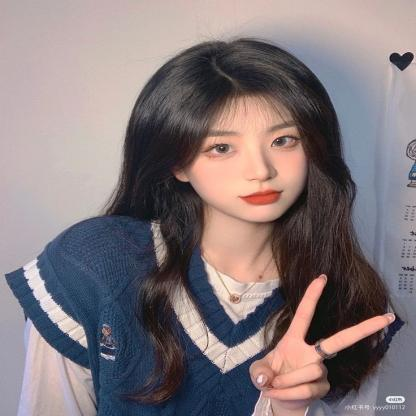person: (166, 64, 334, 242)
